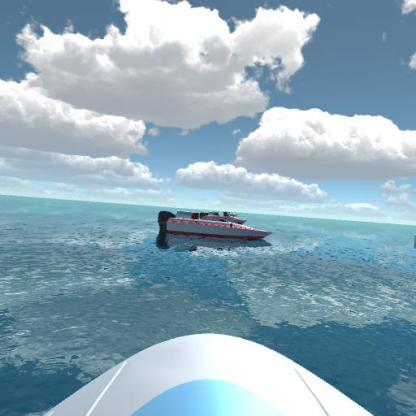usv0: (224, 209, 241, 217)
usv3: (155, 205, 274, 244), (198, 207, 249, 225)
